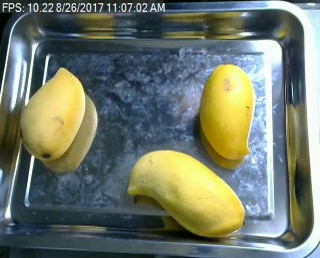Mango: (122, 145, 250, 240), (17, 63, 88, 160), (197, 60, 258, 164)
